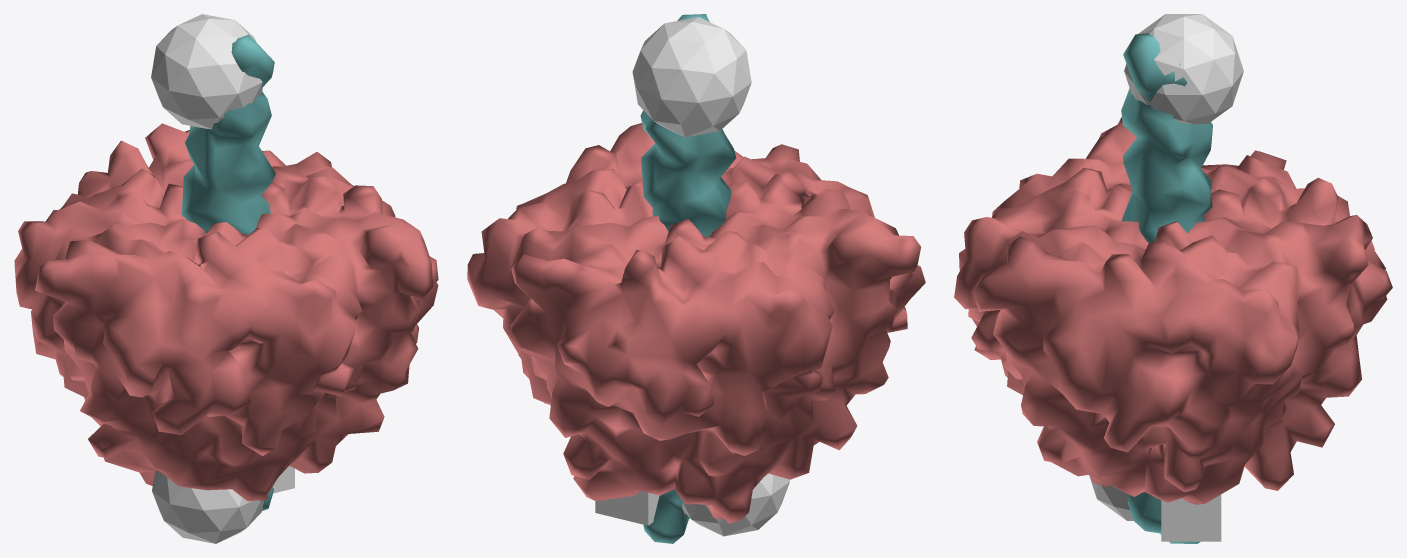
Rendered from collagen.fbx.
3 renders of one model, left to right at view 1: azimuth 30°, elevation 25°; view 2: azimuth 150°, elevation 25°; view 3: azimuth 270°, elevation 25°, orthographic. The views are drawn at different scales.
Visible parts, largest first — view 1: vmd_mol35_rep0, vmd_mol34_rep0, d_start.001, d_start; view 2: vmd_mol35_rep0, d_start.001, vmd_mol34_rep0, d_start, d_end.001; view 3: vmd_mol35_rep0, vmd_mol34_rep0, d_start.001, d_end.001, d_start.
Part boxes in pixels (left/top/right/bottom): vmd_mol35_rep0: left=14, top=123, right=438, bottom=501; vmd_mol34_rep0: left=181, top=34, right=275, bottom=510; d_start.001: left=151, top=14, right=262, bottom=129; d_start: left=152, top=471, right=263, bottom=543; vmd_mol35_rep0: left=467, top=123, right=925, bottom=523; d_start.001: left=632, top=17, right=751, bottom=137; vmd_mol34_rep0: left=640, top=14, right=736, bottom=543; d_start: left=682, top=473, right=789, bottom=536; d_end.001: left=595, top=491, right=659, bottom=525; vmd_mol35_rep0: left=954, top=117, right=1392, bottom=504; vmd_mol34_rep0: left=1121, top=33, right=1212, bottom=543; d_start.001: left=1124, top=14, right=1243, bottom=124; d_end.001: left=1161, top=494, right=1221, bottom=541; d_start: left=1089, top=475, right=1133, bottom=520.
Bounding box in the file's own units: 73.75 × 94.54 × 73.19.
